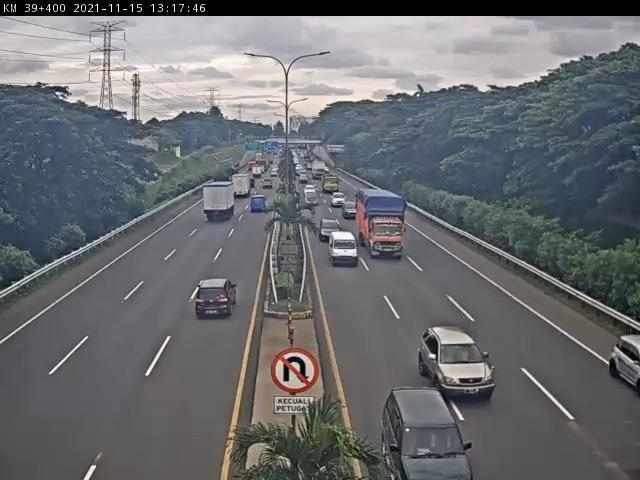car: (419, 325, 499, 402), (194, 279, 238, 320), (329, 233, 362, 270), (317, 217, 345, 246), (249, 194, 270, 217), (344, 201, 360, 222)
truck: (357, 189, 411, 262), (201, 181, 237, 226)
